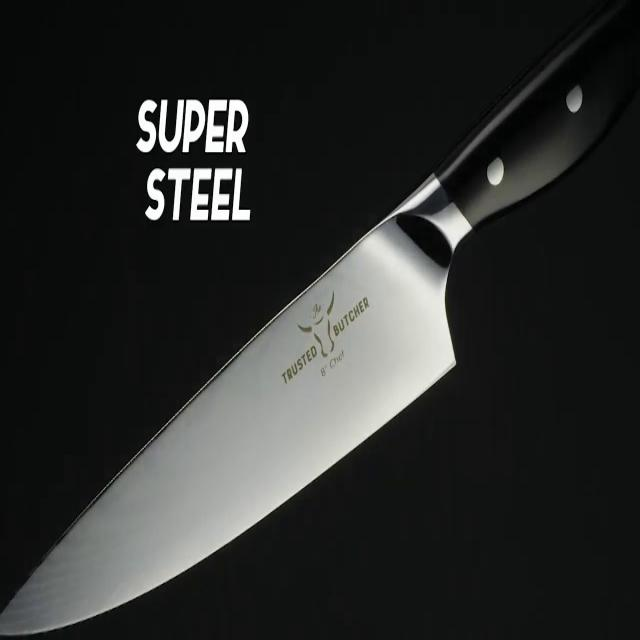Knife: (0, 156, 454, 636)
